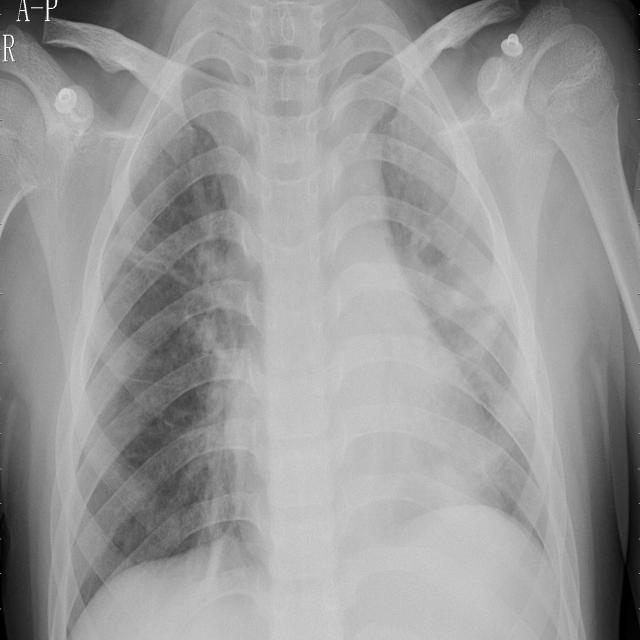low-pneumonia: (405, 210, 491, 375)
